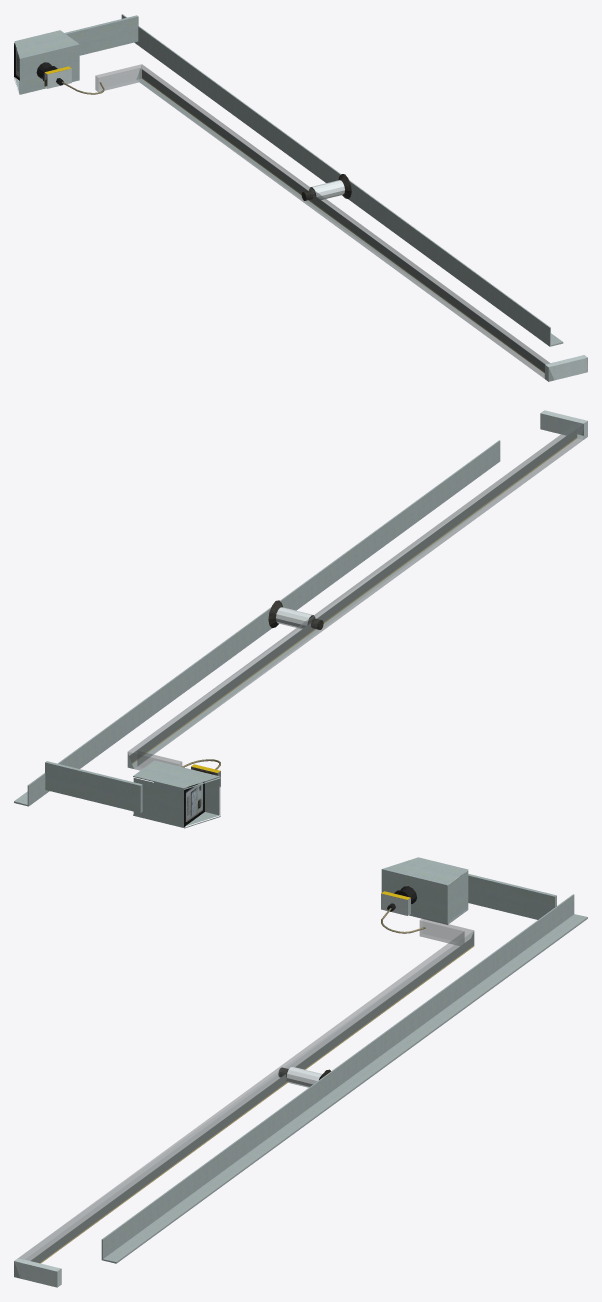
The model's file is jgj002-geode.glb.
The picture shows the model from 3 angles, top to bottom: view 1: azimuth 30°, elevation 25°; view 2: azimuth 150°, elevation 25°; view 3: azimuth 330°, elevation 25°; orthographic projection. The views are drawn at different scales.
Visible parts, largest first — view 1: Node; view 2: Node; view 3: Node.
Part boxes in pixels (<box>): Node: <box>14,14,587,381</box>; Node: <box>14,410,587,828</box>; Node: <box>14,857,587,1287</box>.
Size of the model in its own units: 0.4908 by 0.113 by 2.62.
6 materials, 6 textured.
